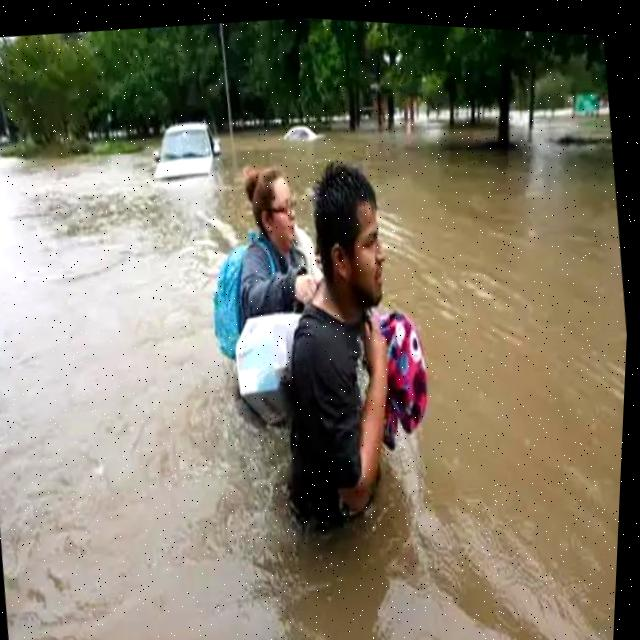civilian: (237, 145, 431, 554), (190, 153, 344, 441)
